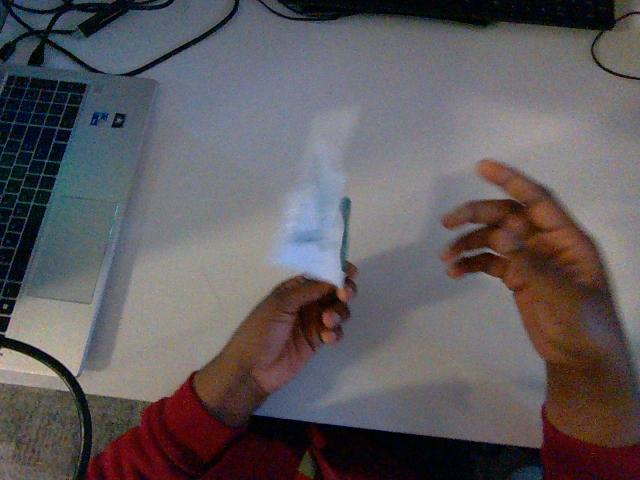gallipot: (273, 113, 350, 285)
